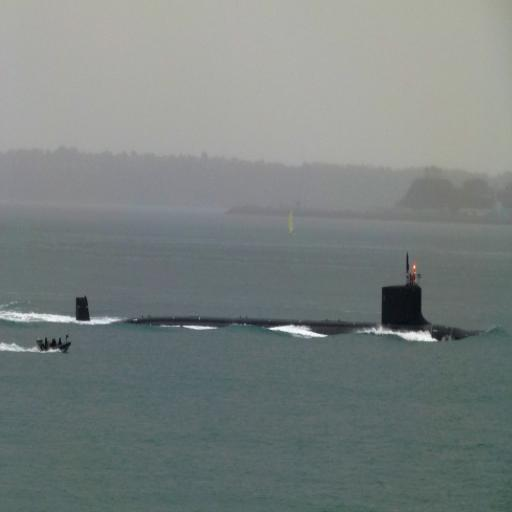submarine: (75, 281, 480, 341)
